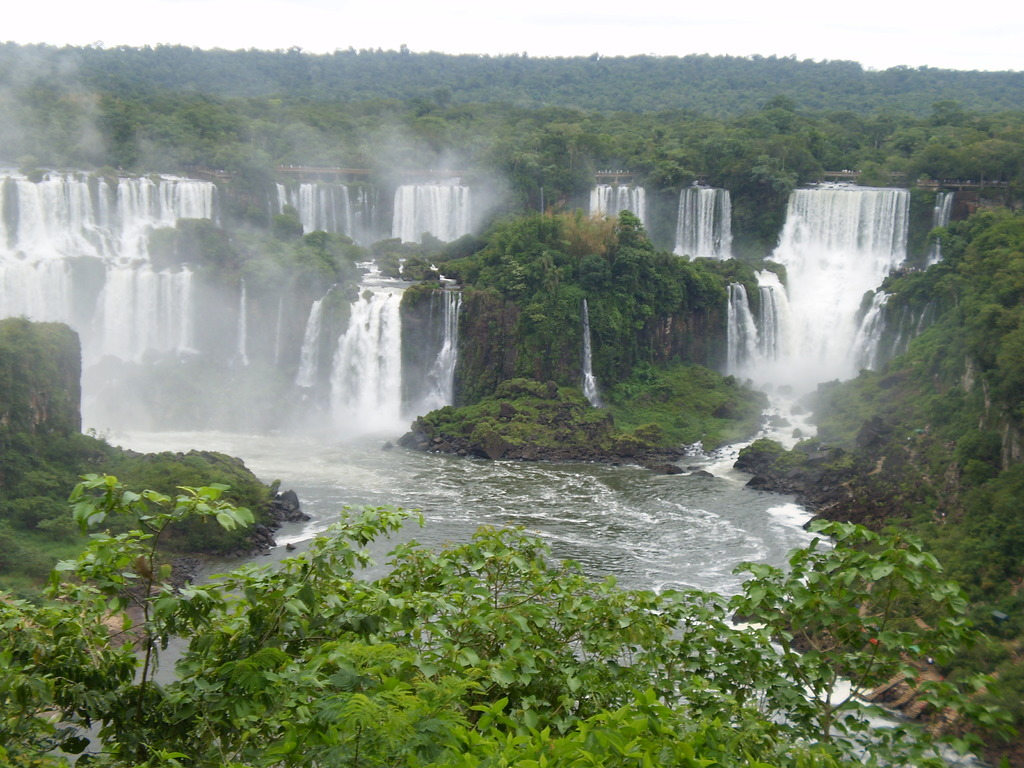Tree: (0, 482, 1018, 768), (0, 49, 1024, 191), (144, 209, 787, 310), (929, 196, 1024, 427)
